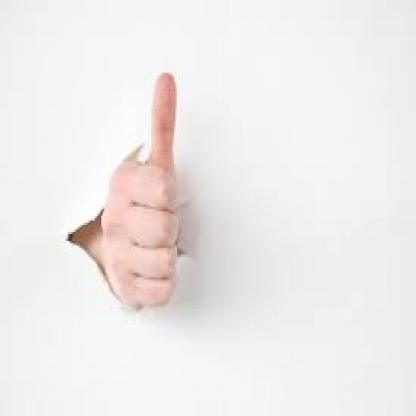thumb_up: (100, 66, 184, 311)
